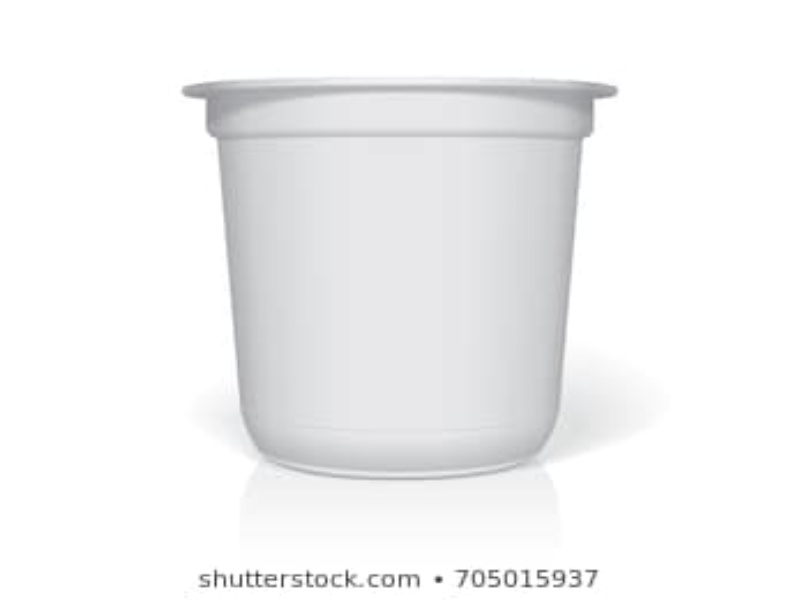yogurt-cup: (178, 74, 622, 478)
